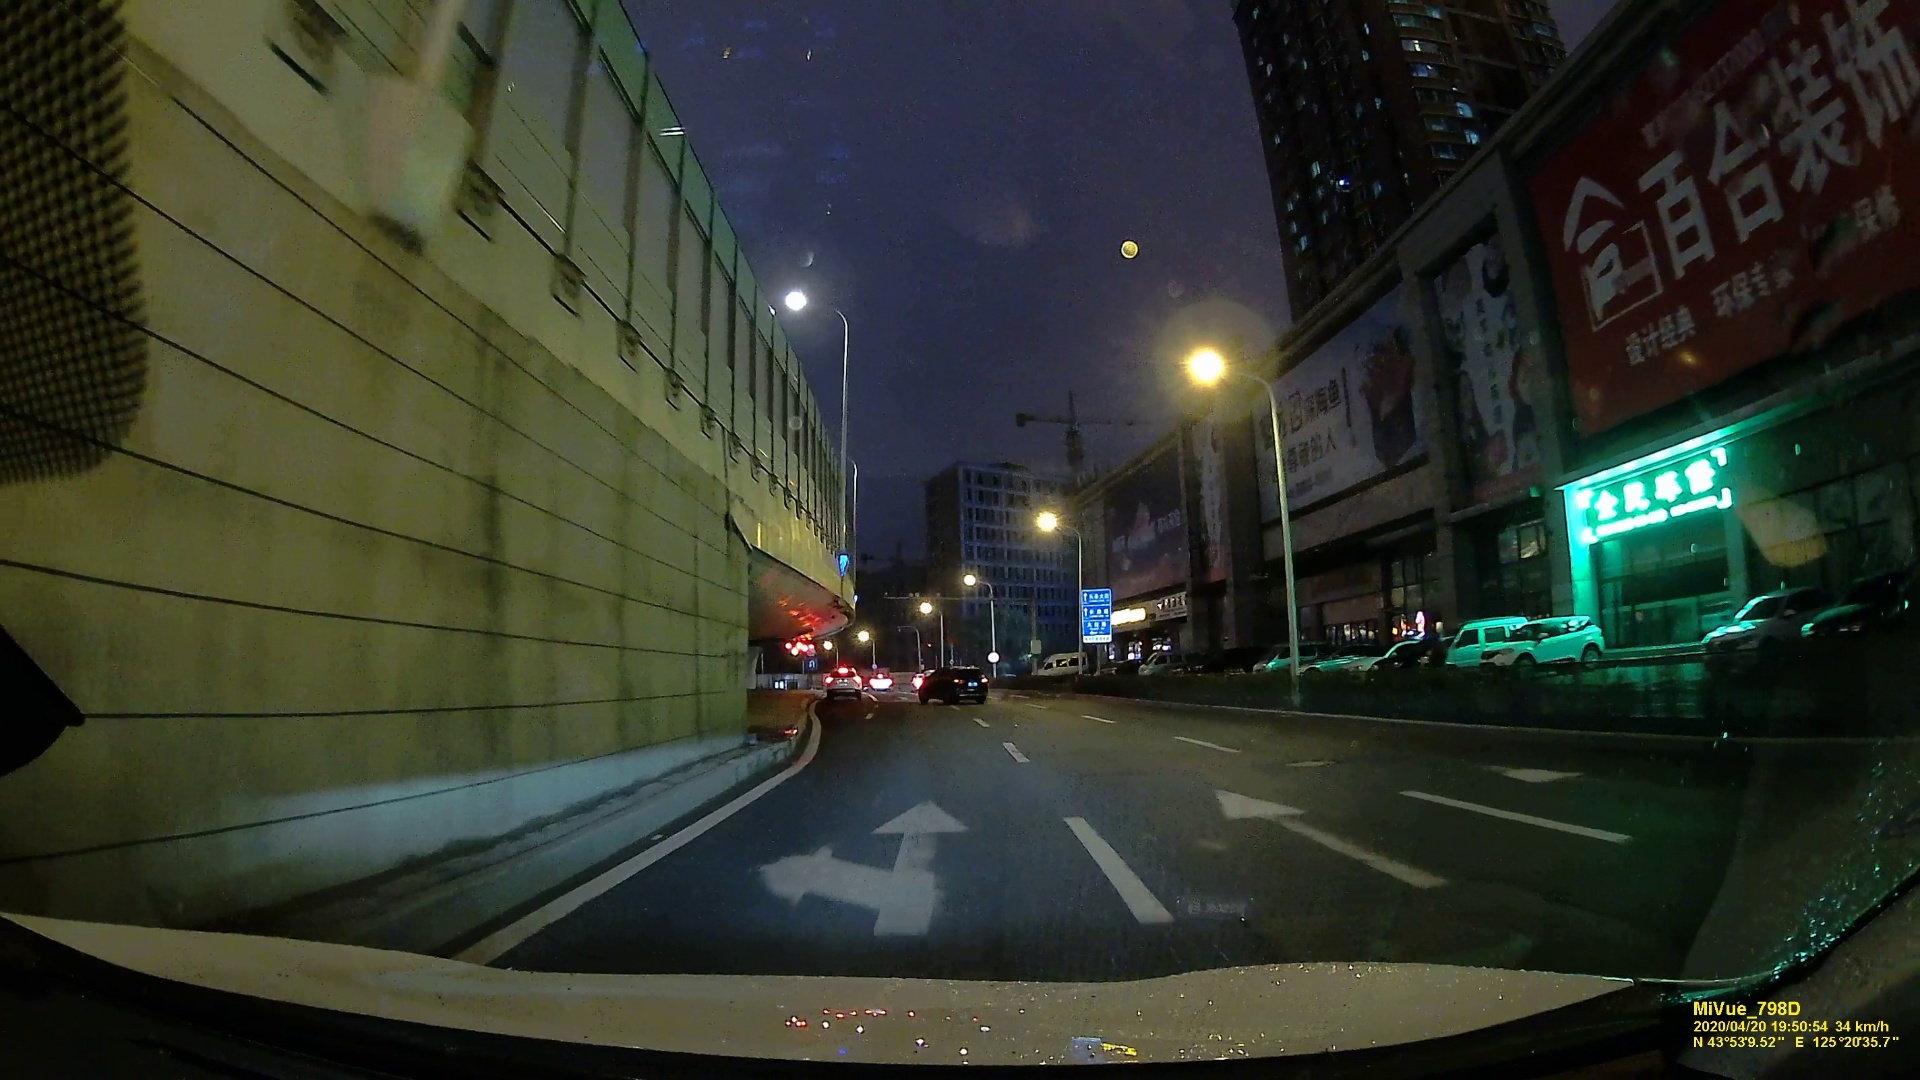minibus: (1253, 640, 1312, 675), (1033, 649, 1087, 676), (1139, 650, 1184, 675)
traffic_sign: (1081, 592, 1112, 642)
vehicle: (1481, 616, 1607, 678), (1702, 596, 1815, 650), (914, 663, 986, 704), (824, 669, 862, 700)
